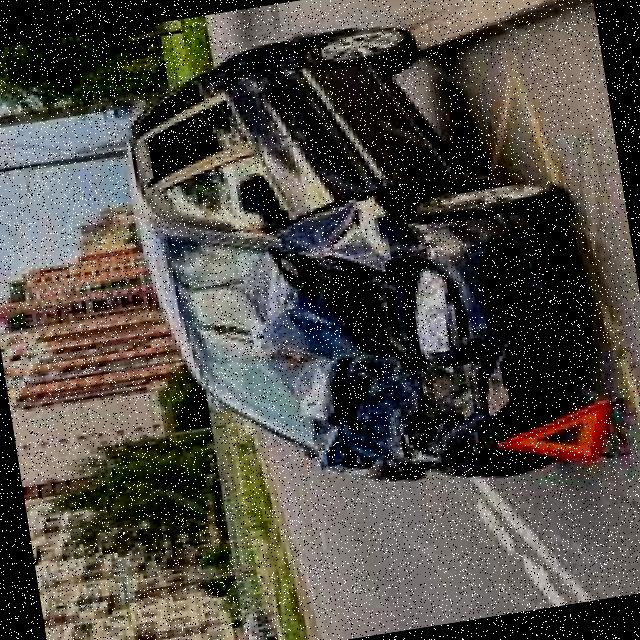Severe Damage: (277, 188, 584, 494)
